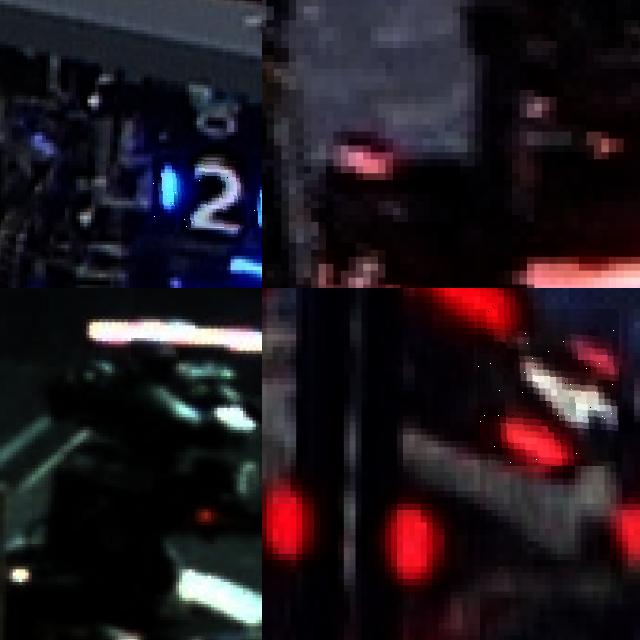B2: (153, 155, 262, 228)
R4: (477, 309, 619, 466), (604, 418, 640, 588)
